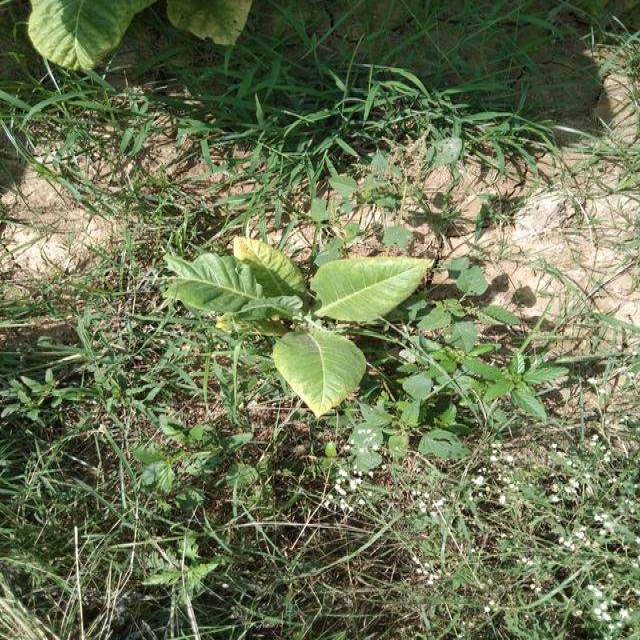crop: (186, 233, 406, 408)
